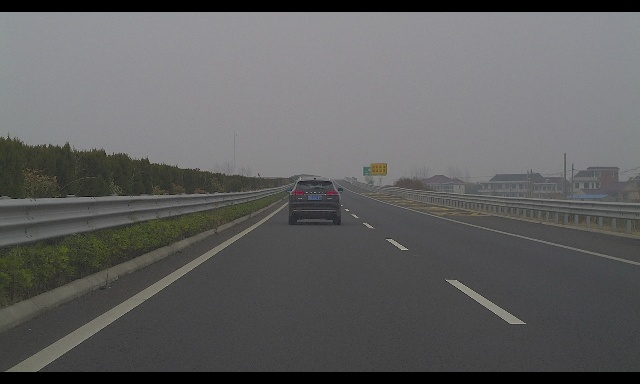car: (286, 177, 343, 225)
